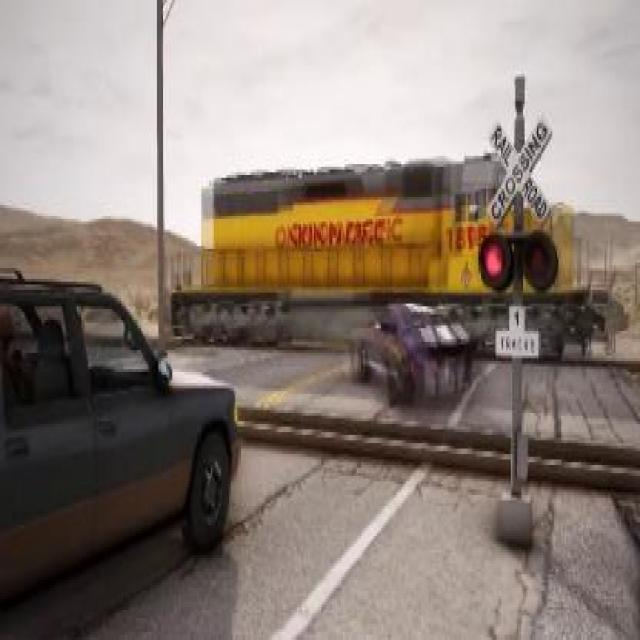accident: (182, 134, 582, 391)
